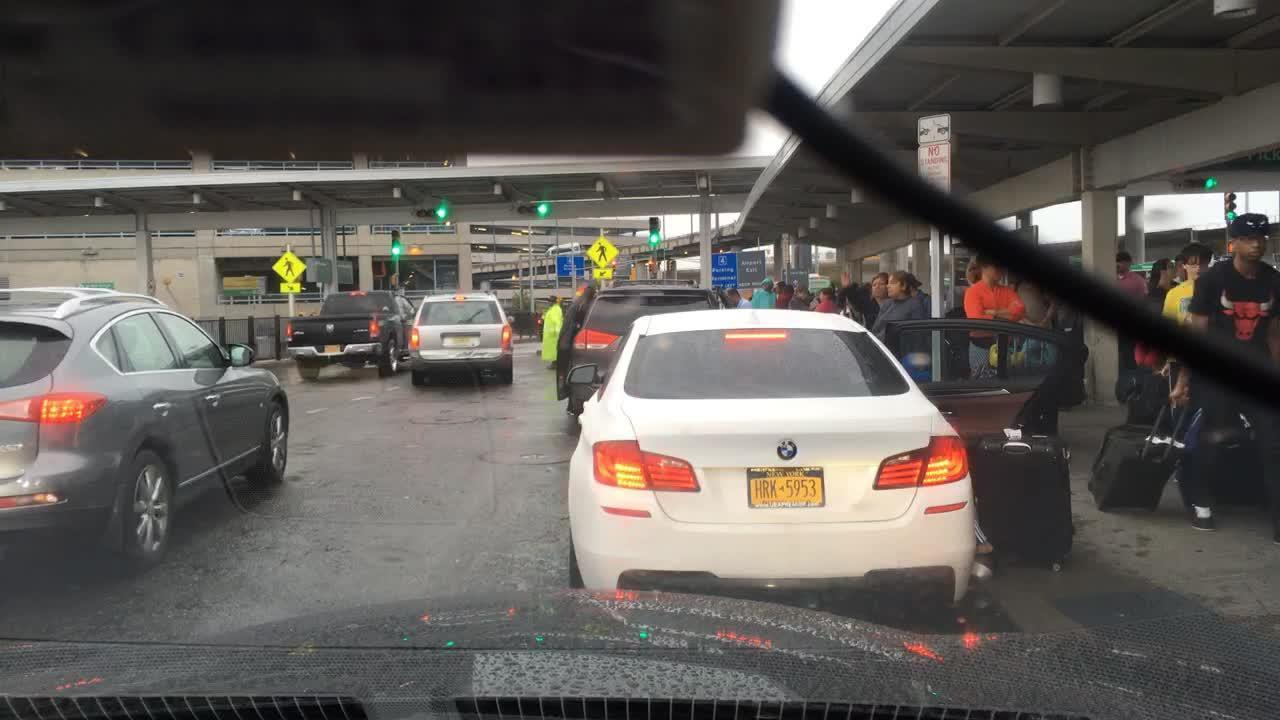bmw: (773, 439, 804, 463)
